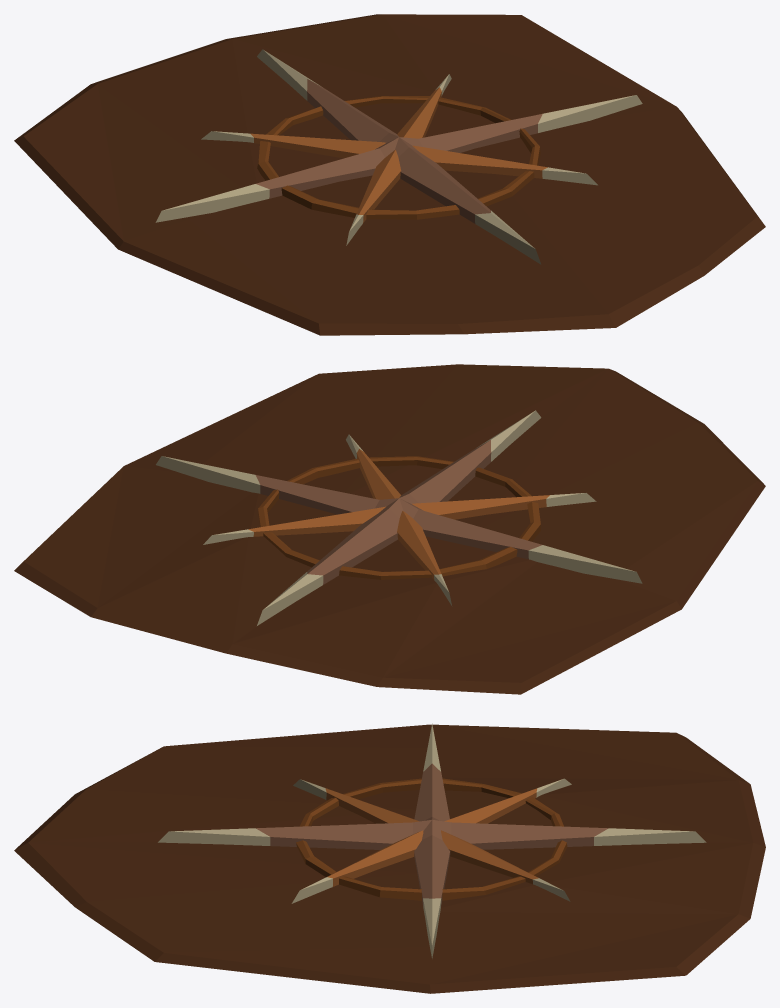
The model's file is NavigationCross.fbx.
3 views of the same model, one above another, from view 1: azimuth 30°, elevation 25°; view 2: azimuth 150°, elevation 25°; view 3: azimuth 270°, elevation 25° (orthographic). The views are drawn at different scales.
Visible parts, largest first — view 1: Shield, MainCross, InnerCross, Circle; view 2: Shield, MainCross, InnerCross, Circle; view 3: Shield, MainCross, InnerCross, Circle.
Boxes of the visible parts, x1,y1,x2,y2 form: Shield: (14,14,765,335); MainCross: (155,49,642,264); InnerCross: (201,74,597,245); Circle: (257,96,540,219); Shield: (14,364,765,694); MainCross: (156,410,642,625); InnerCross: (203,434,596,606); Circle: (258,456,540,579); Shield: (14,724,765,993); MainCross: (158,723,706,958); InnerCross: (291,778,571,903); Circle: (296,778,567,900).
Size of the model in its own units: 3331 by 243 by 3992.
